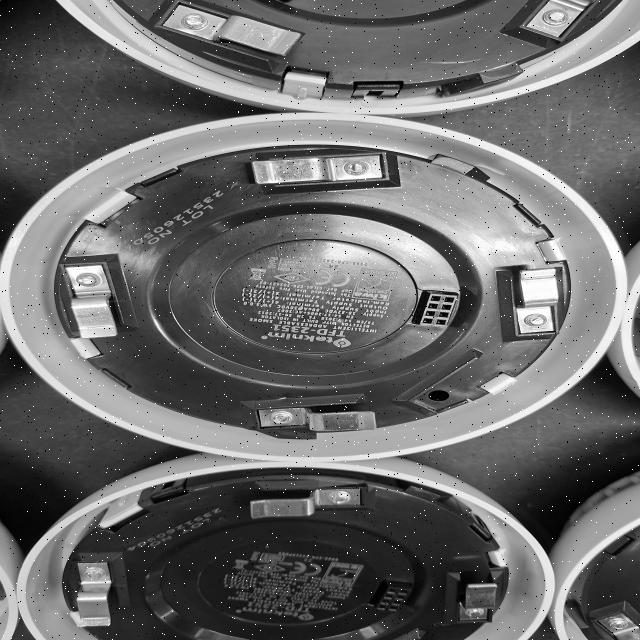yaysiz: (145, 2, 316, 65), (223, 148, 394, 192), (493, 252, 573, 340), (59, 254, 132, 348), (233, 397, 387, 441), (222, 483, 379, 526), (61, 557, 126, 637), (447, 557, 516, 621)
